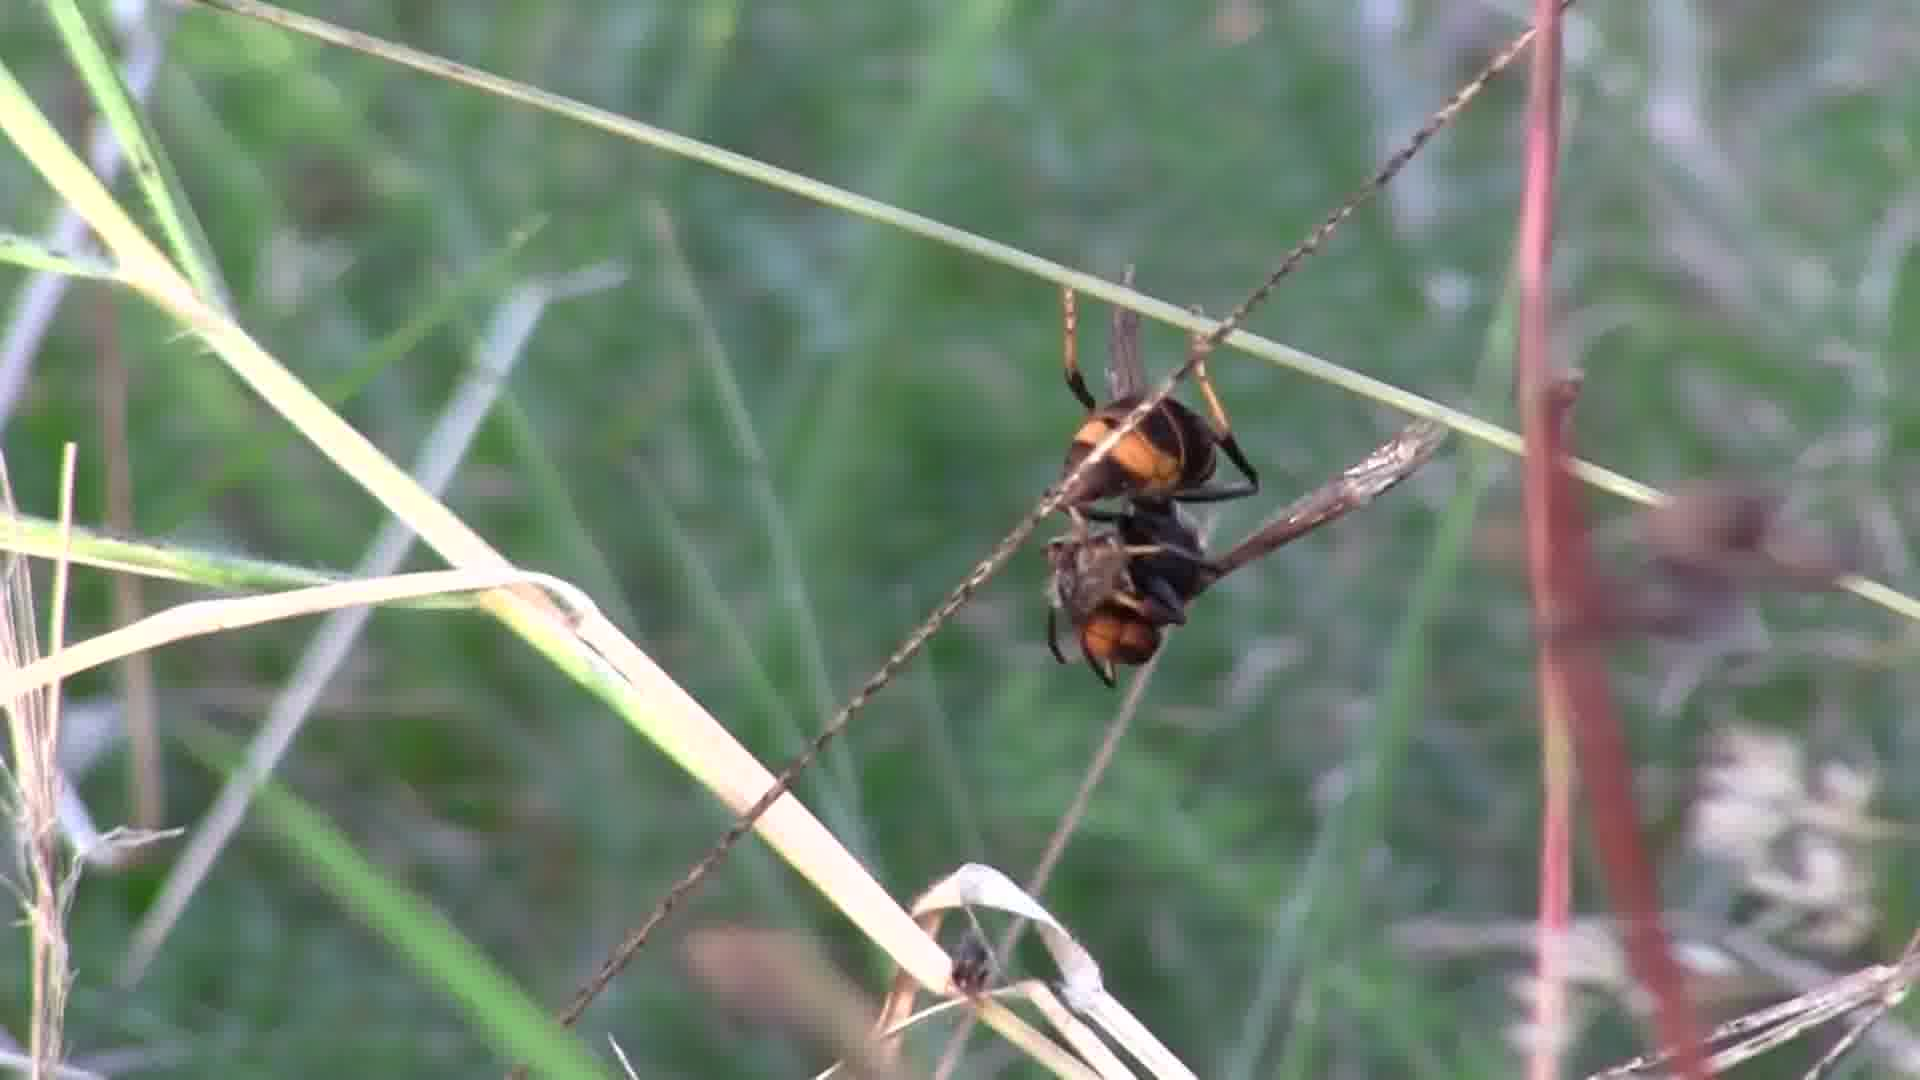hornet: (971, 247, 1317, 731)
